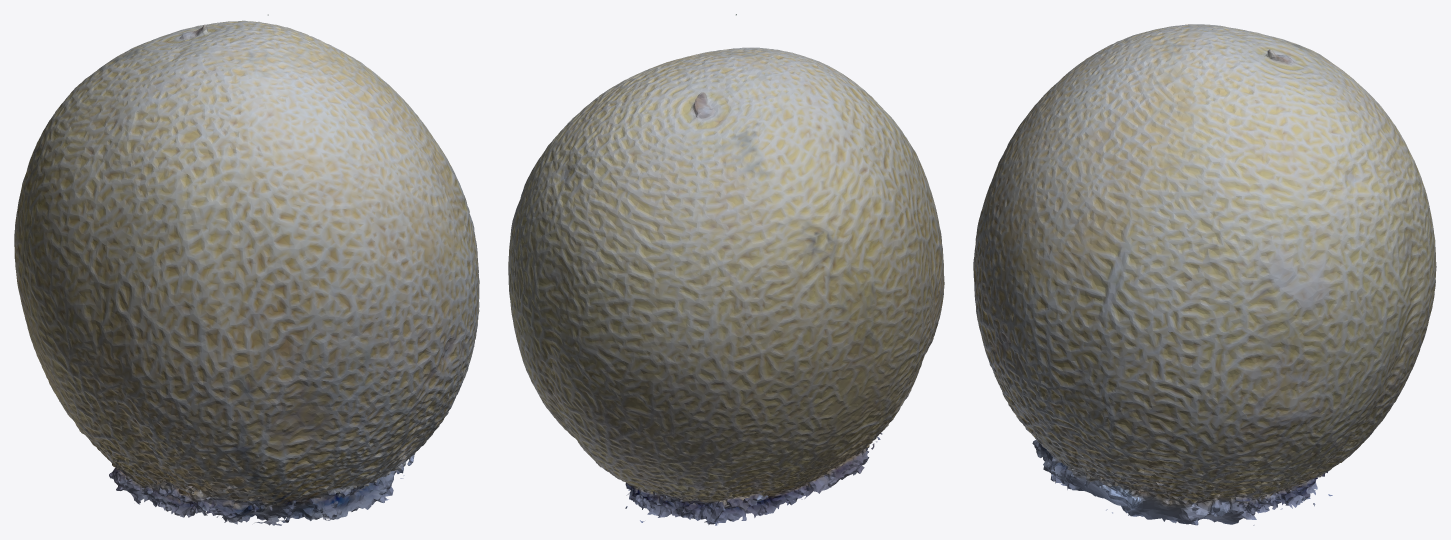
The model's file is MELONMODEL.glb.
3 views of the same model, side by side, from view 1: azimuth 30°, elevation 25°; view 2: azimuth 150°, elevation 25°; view 3: azimuth 270°, elevation 25° (orthographic). The views are drawn at different scales.
Bounding box in the file's own units: 5.59 × 6.57 × 5.83.
